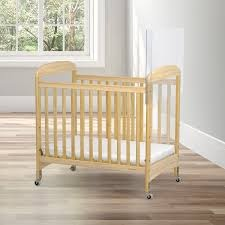crib: (35, 61, 180, 198)
